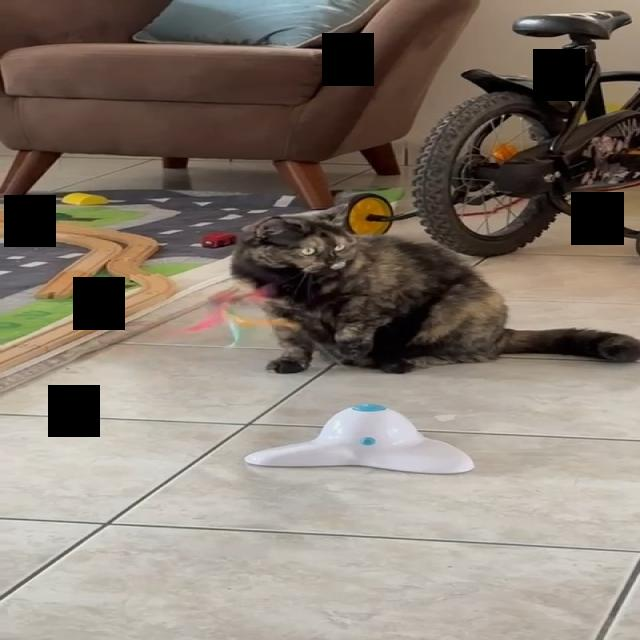authorized: (222, 195, 638, 374)
